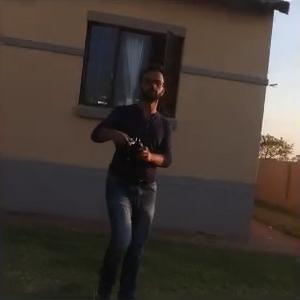follow: (85, 54, 182, 299)
